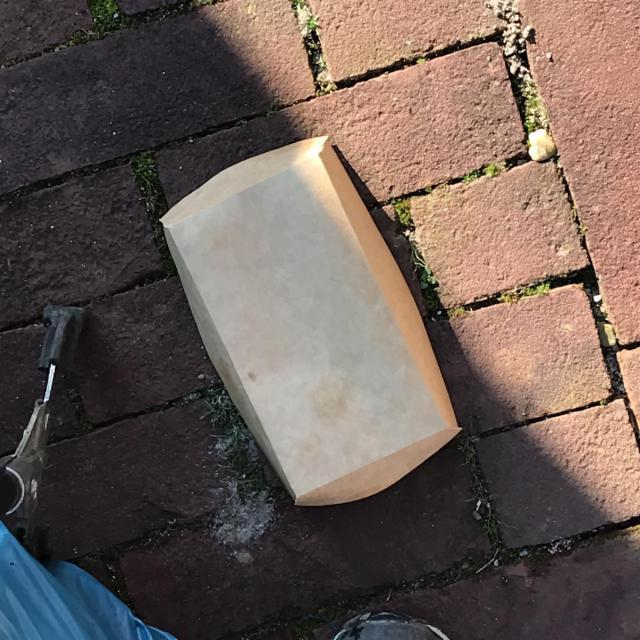Paper: (152, 130, 466, 512)
